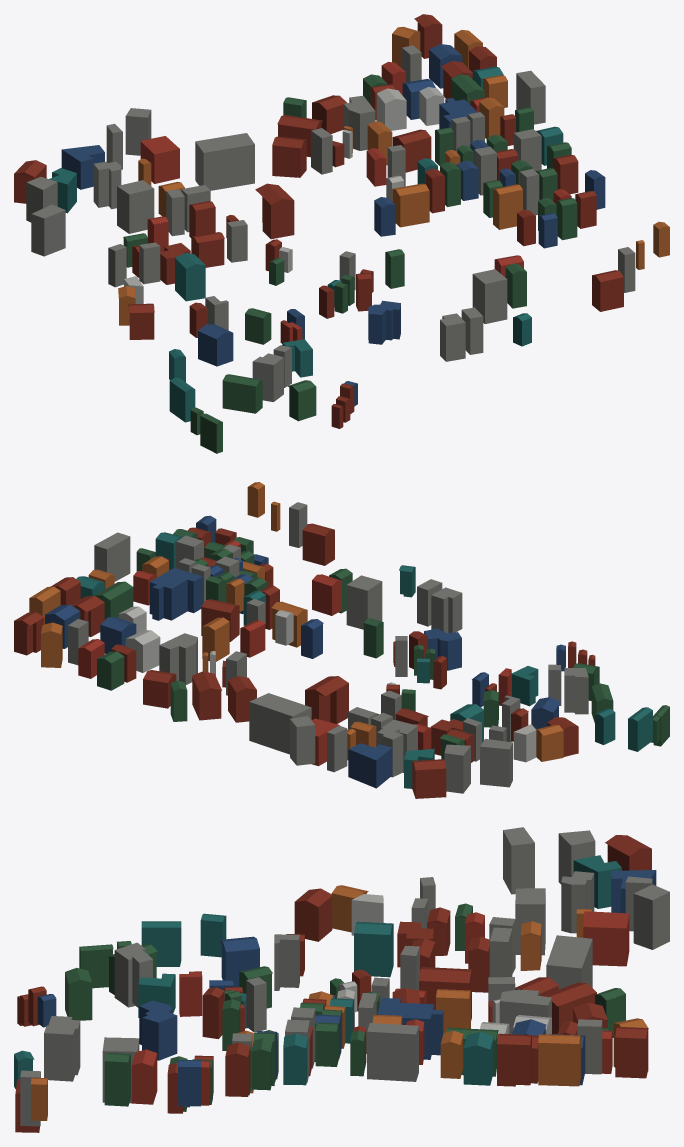
The model's file is near-17-109436-59478.2ff563c5.glb.
3 views of the same model, one above another, from view 1: azimuth 30°, elevation 25°; view 2: azimuth 150°, elevation 25°; view 3: azimuth 270°, elevation 25° (orthographic). The views are drawn at different scales.
Size of the model in its own units: 302 by 112 by 291.
